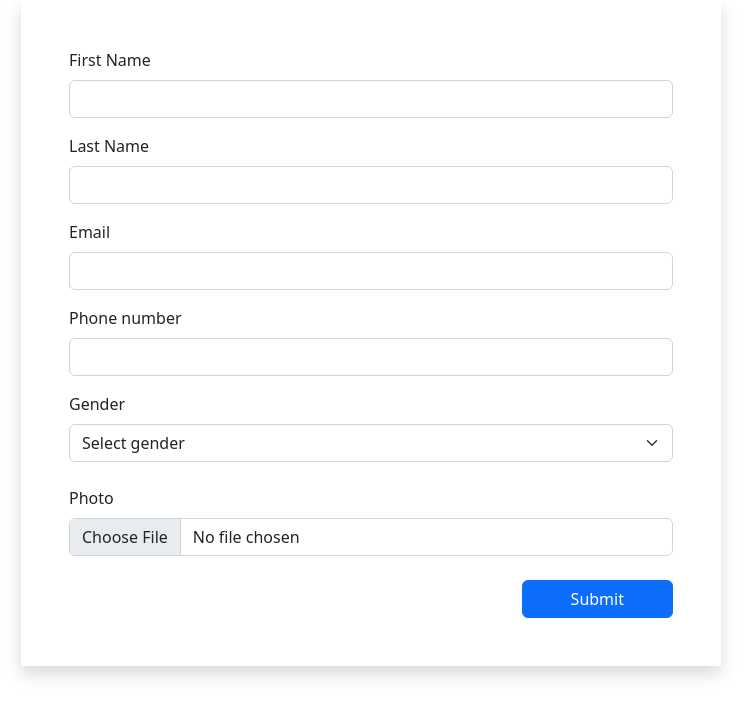
Testing form component › Providing empty initial values and submit
Click the button "Submit": (597, 599) [522, 580, 673, 618]
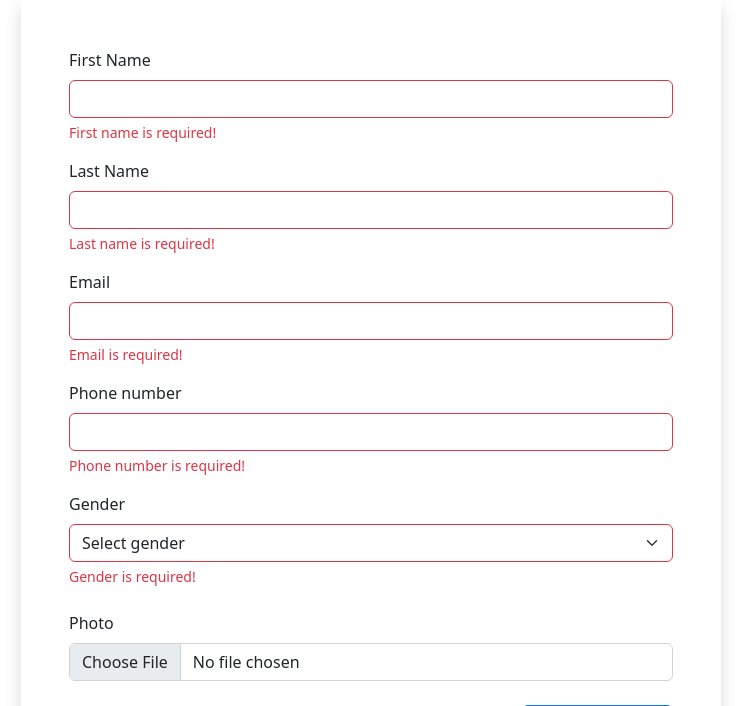
Expected: the text "First name is required!" is shown, [69, 123, 216, 142]
